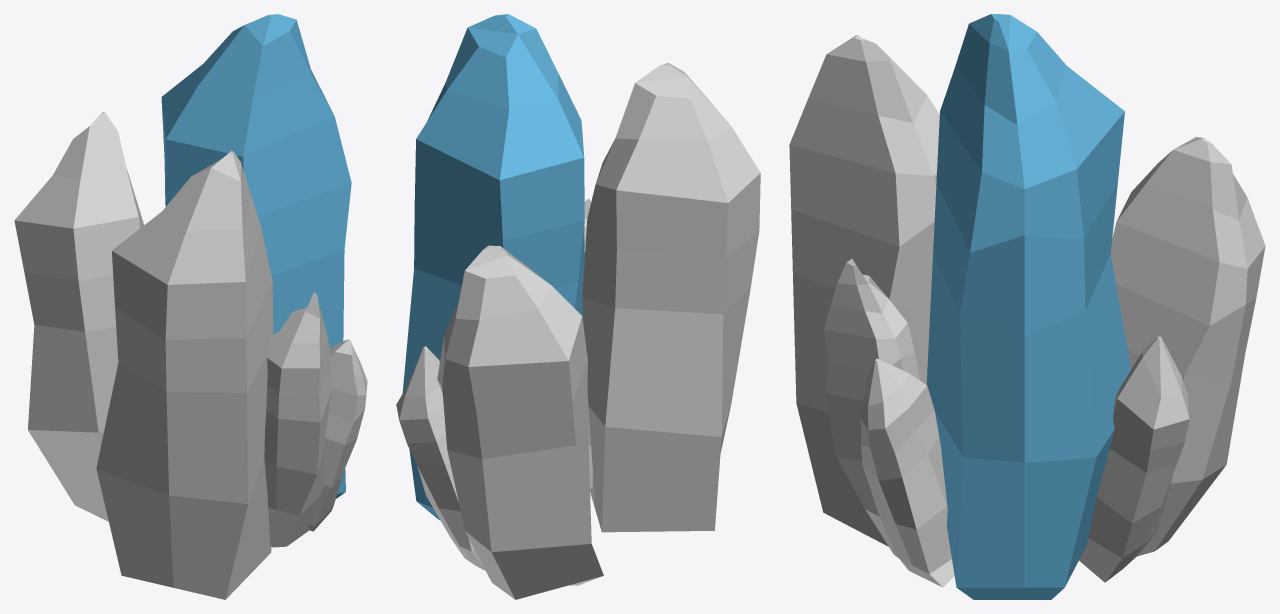
The model's file is TextureTestCaveSEAWEED-Crystals.fbx.
The picture shows the model from 3 angles, left to right: view 1: azimuth 30°, elevation 25°; view 2: azimuth 150°, elevation 25°; view 3: azimuth 270°, elevation 25°; orthographic projection. The views are drawn at different scales.
Parts seen in each view (by area): view 1: Cube.005, Cube.003, Cube.004, Cube.006, Cube.007; view 2: Cube.005, Cube.004, Cube.003, Cube.008; view 3: Cube.003, Cube.005, Cube.004, Cube.008, Cube.007, Cube.006.
Boxes of the visible parts, bbox=[...] form: Cube.005: bbox=[96, 151, 273, 599]; Cube.003: bbox=[161, 14, 351, 498]; Cube.004: bbox=[14, 112, 143, 521]; Cube.006: bbox=[264, 292, 331, 547]; Cube.007: bbox=[308, 339, 367, 531]; Cube.005: bbox=[582, 63, 760, 532]; Cube.004: bbox=[437, 245, 603, 599]; Cube.003: bbox=[402, 14, 584, 519]; Cube.008: bbox=[396, 346, 485, 570]; Cube.003: bbox=[926, 14, 1130, 599]; Cube.005: bbox=[789, 35, 939, 546]; Cube.004: bbox=[1110, 137, 1265, 556]; Cube.008: bbox=[1079, 336, 1189, 582]; Cube.007: bbox=[860, 358, 954, 587]; Cube.006: bbox=[824, 259, 919, 557].
Size of the model in its own units: 1004 by 1794 by 1339.
